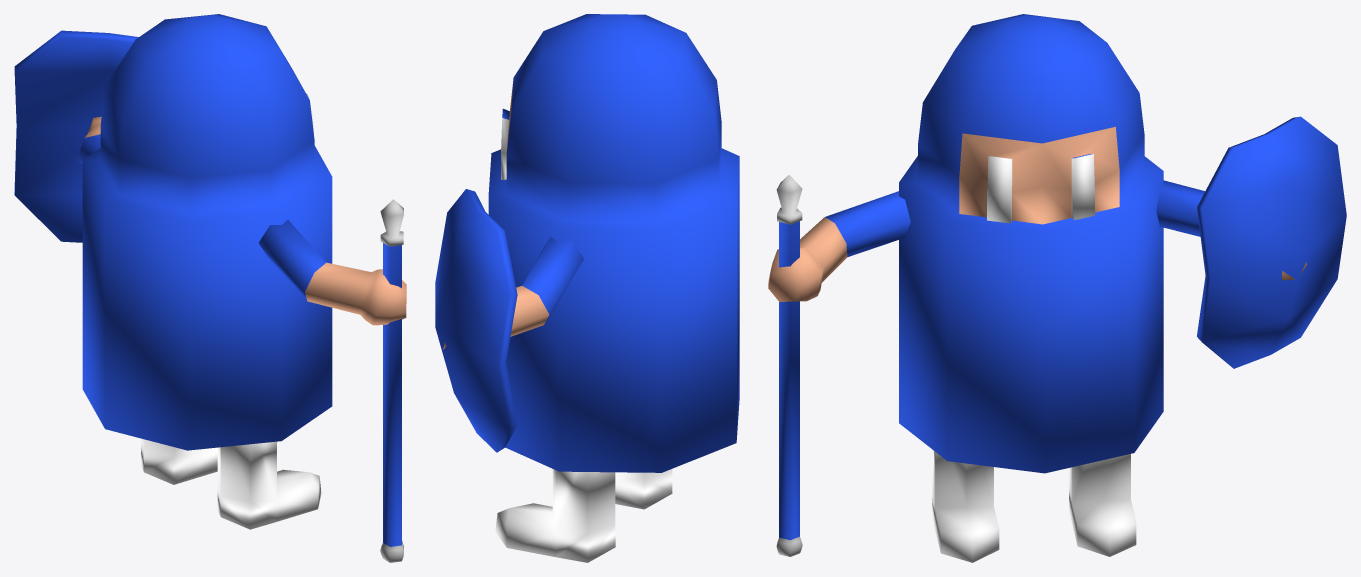
File: dixing_1.fbx
3 views of the same model, side by side, from view 1: azimuth 30°, elevation 25°; view 2: azimuth 150°, elevation 25°; view 3: azimuth 270°, elevation 25° (orthographic). The views are drawn at different scales.
Parts seen in each view (by area): view 1: 平面.036; view 2: 平面.036; view 3: 平面.036.
Boxes of the visible parts, <box> form: 平面.036: <box>14,14,406,562</box>; 平面.036: <box>435,14,739,562</box>; 平面.036: <box>768,14,1346,562</box>.
Size of the model in its own units: 132 by 271 by 289.
Materials: 1 (1 with a texture image).
